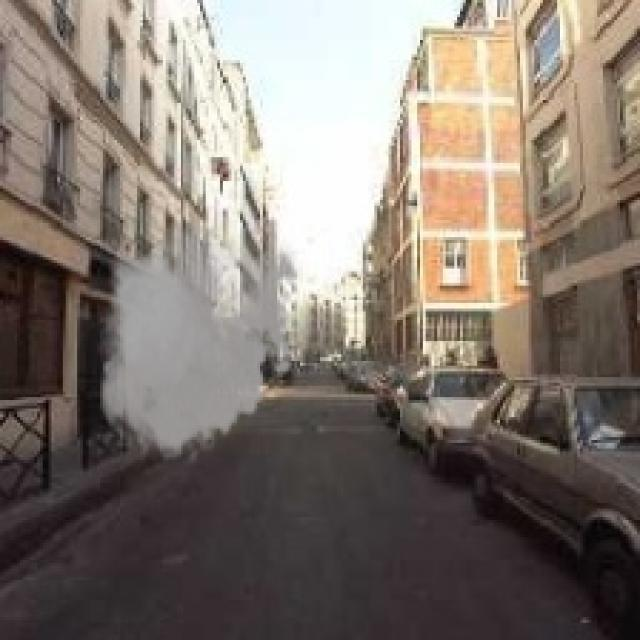Smoke: (91, 208, 306, 468)
